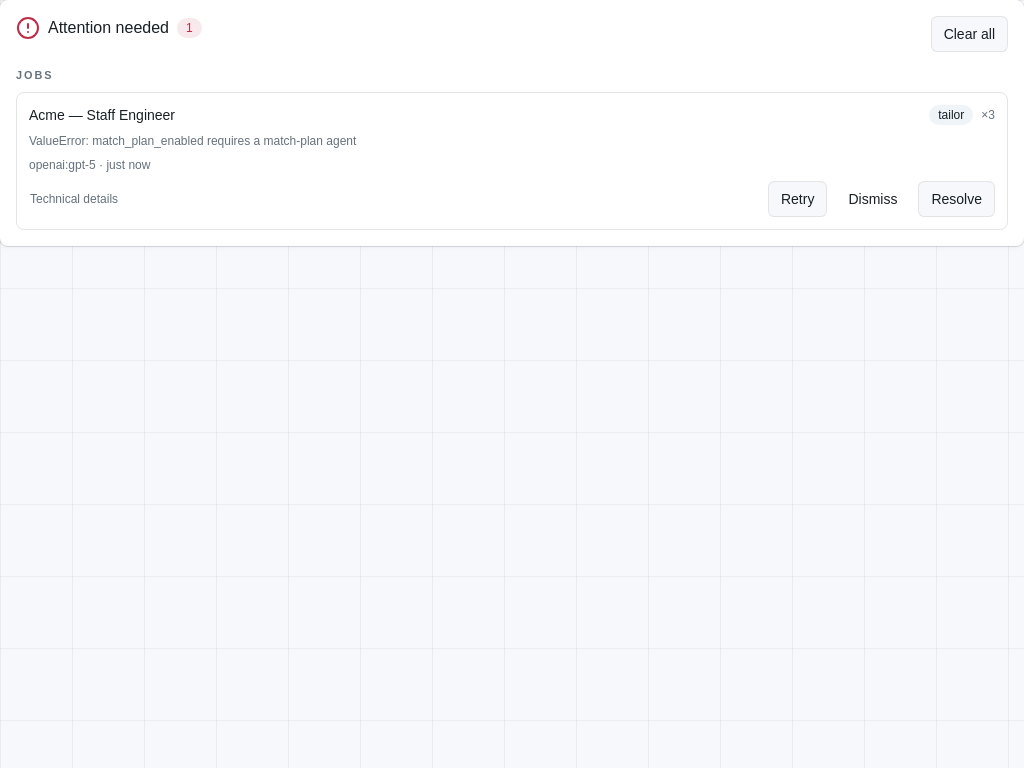
AttentionCard › hides the traceback until the expander is opened
Expected: the text "Traceback (most recent call last)" is not shown
Click the button "Technical details" at (74, 199), box [29,180,760,216]
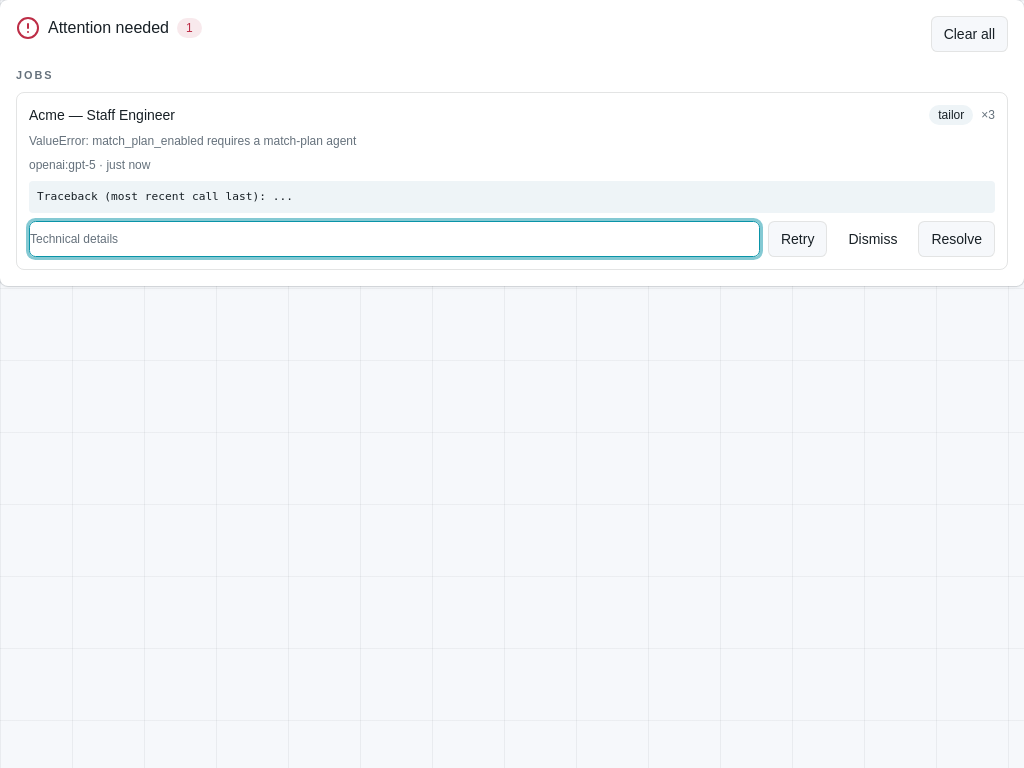
Expected: the text "Traceback (most recent call last): ..." is shown, [29,180,995,212]
